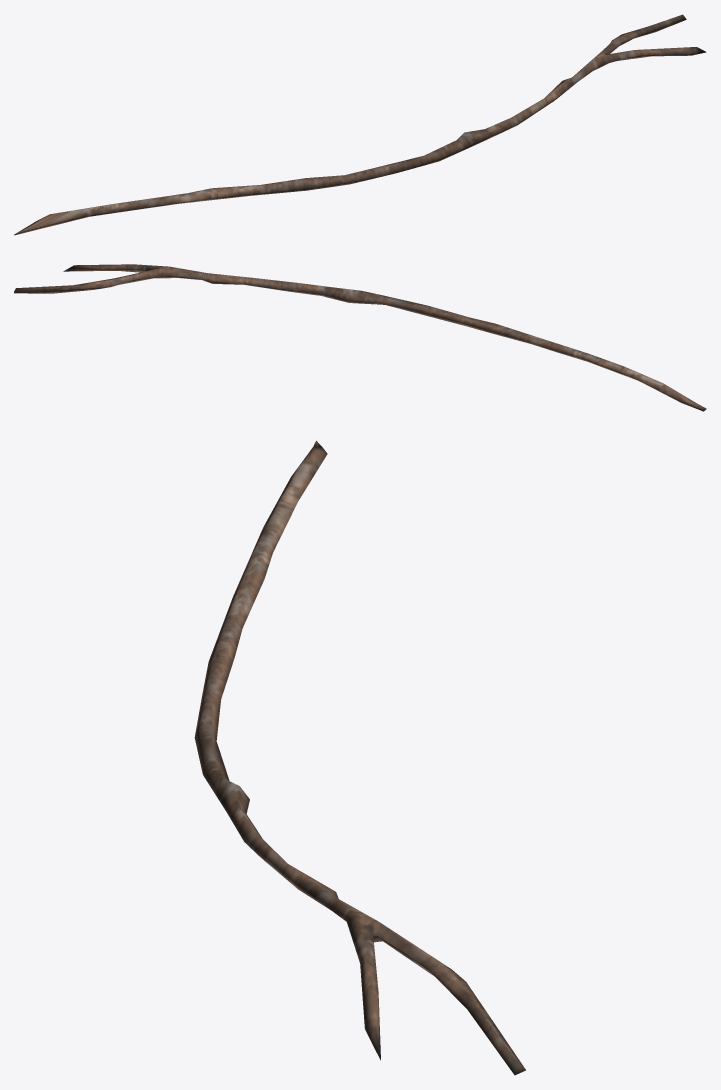
File: Tree_Twig01.fbx
3 renders of one model, top to bottom at view 1: azimuth 30°, elevation 25°; view 2: azimuth 150°, elevation 25°; view 3: azimuth 270°, elevation 25°, orthographic. The views are drawn at different scales.
Parts seen in each view (by area): view 1: Tree_Twig01; view 2: Tree_Twig01; view 3: Tree_Twig01.
Boxes of the visible parts, x1,y1,x2,y2 form: Tree_Twig01: (14,14,706,235); Tree_Twig01: (14,264,706,411); Tree_Twig01: (194,440,525,1075).
Bounding box in the file's own units: 83.3 × 3.05 × 18.59.
1 material, 1 textured.
